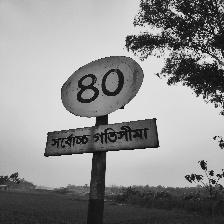Speed-limit: (46, 54, 157, 156)
